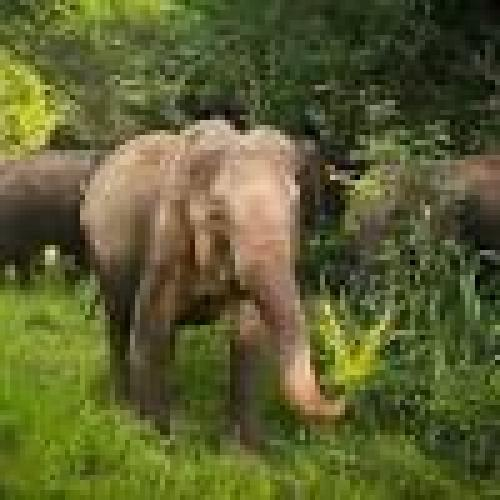asian_elephant-endangered: (85, 113, 345, 452)
